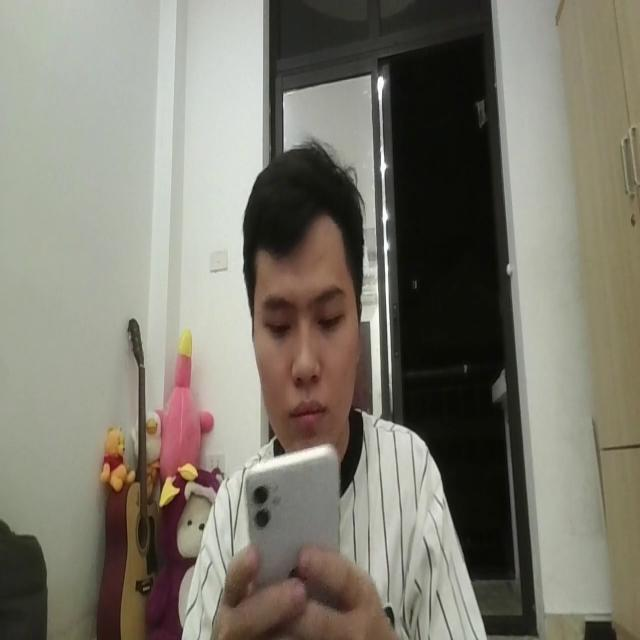phone: (238, 435, 344, 573)
student: (189, 141, 488, 640)
